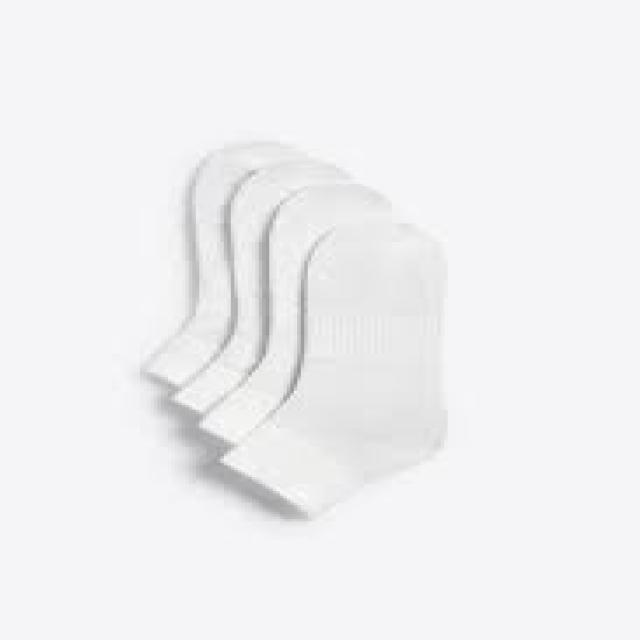sock: (136, 140, 448, 519)
